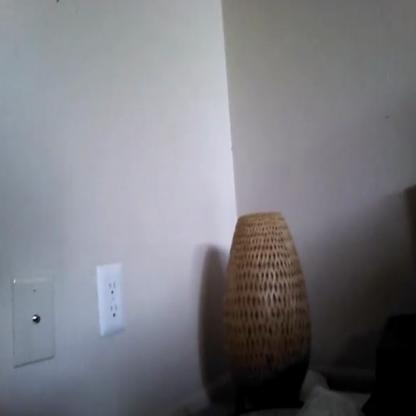OUTLET: (96, 264, 126, 334)
